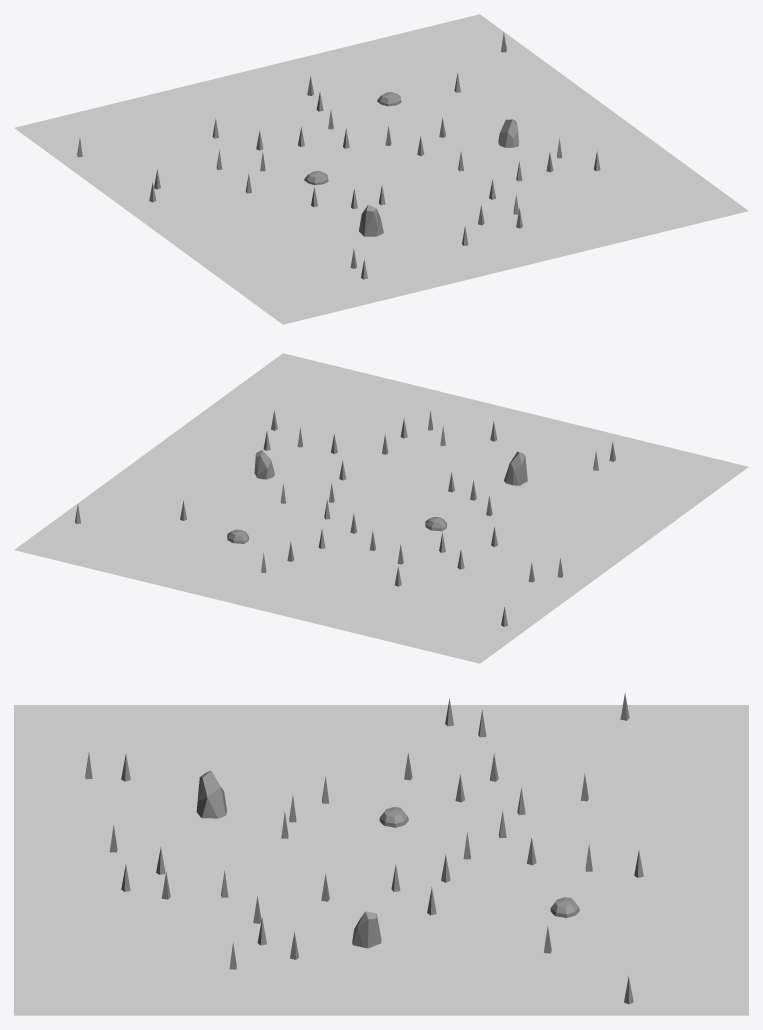
File: tile3.fbx
The picture shows the model from 3 angles, top to bottom: view 1: azimuth 30°, elevation 25°; view 2: azimuth 150°, elevation 25°; view 3: azimuth 270°, elevation 25°; orthographic projection. The views are drawn at different scales.
Visible parts, largest first — view 1: Tile3; view 2: Tile3; view 3: Tile3.
Part boxes in pixels (<box>): Tile3: <box>14,14,748,324</box>; Tile3: <box>14,353,748,663</box>; Tile3: <box>14,693,748,1015</box>.
Bounding box in the file's own units: 5000 × 407 × 5000.
